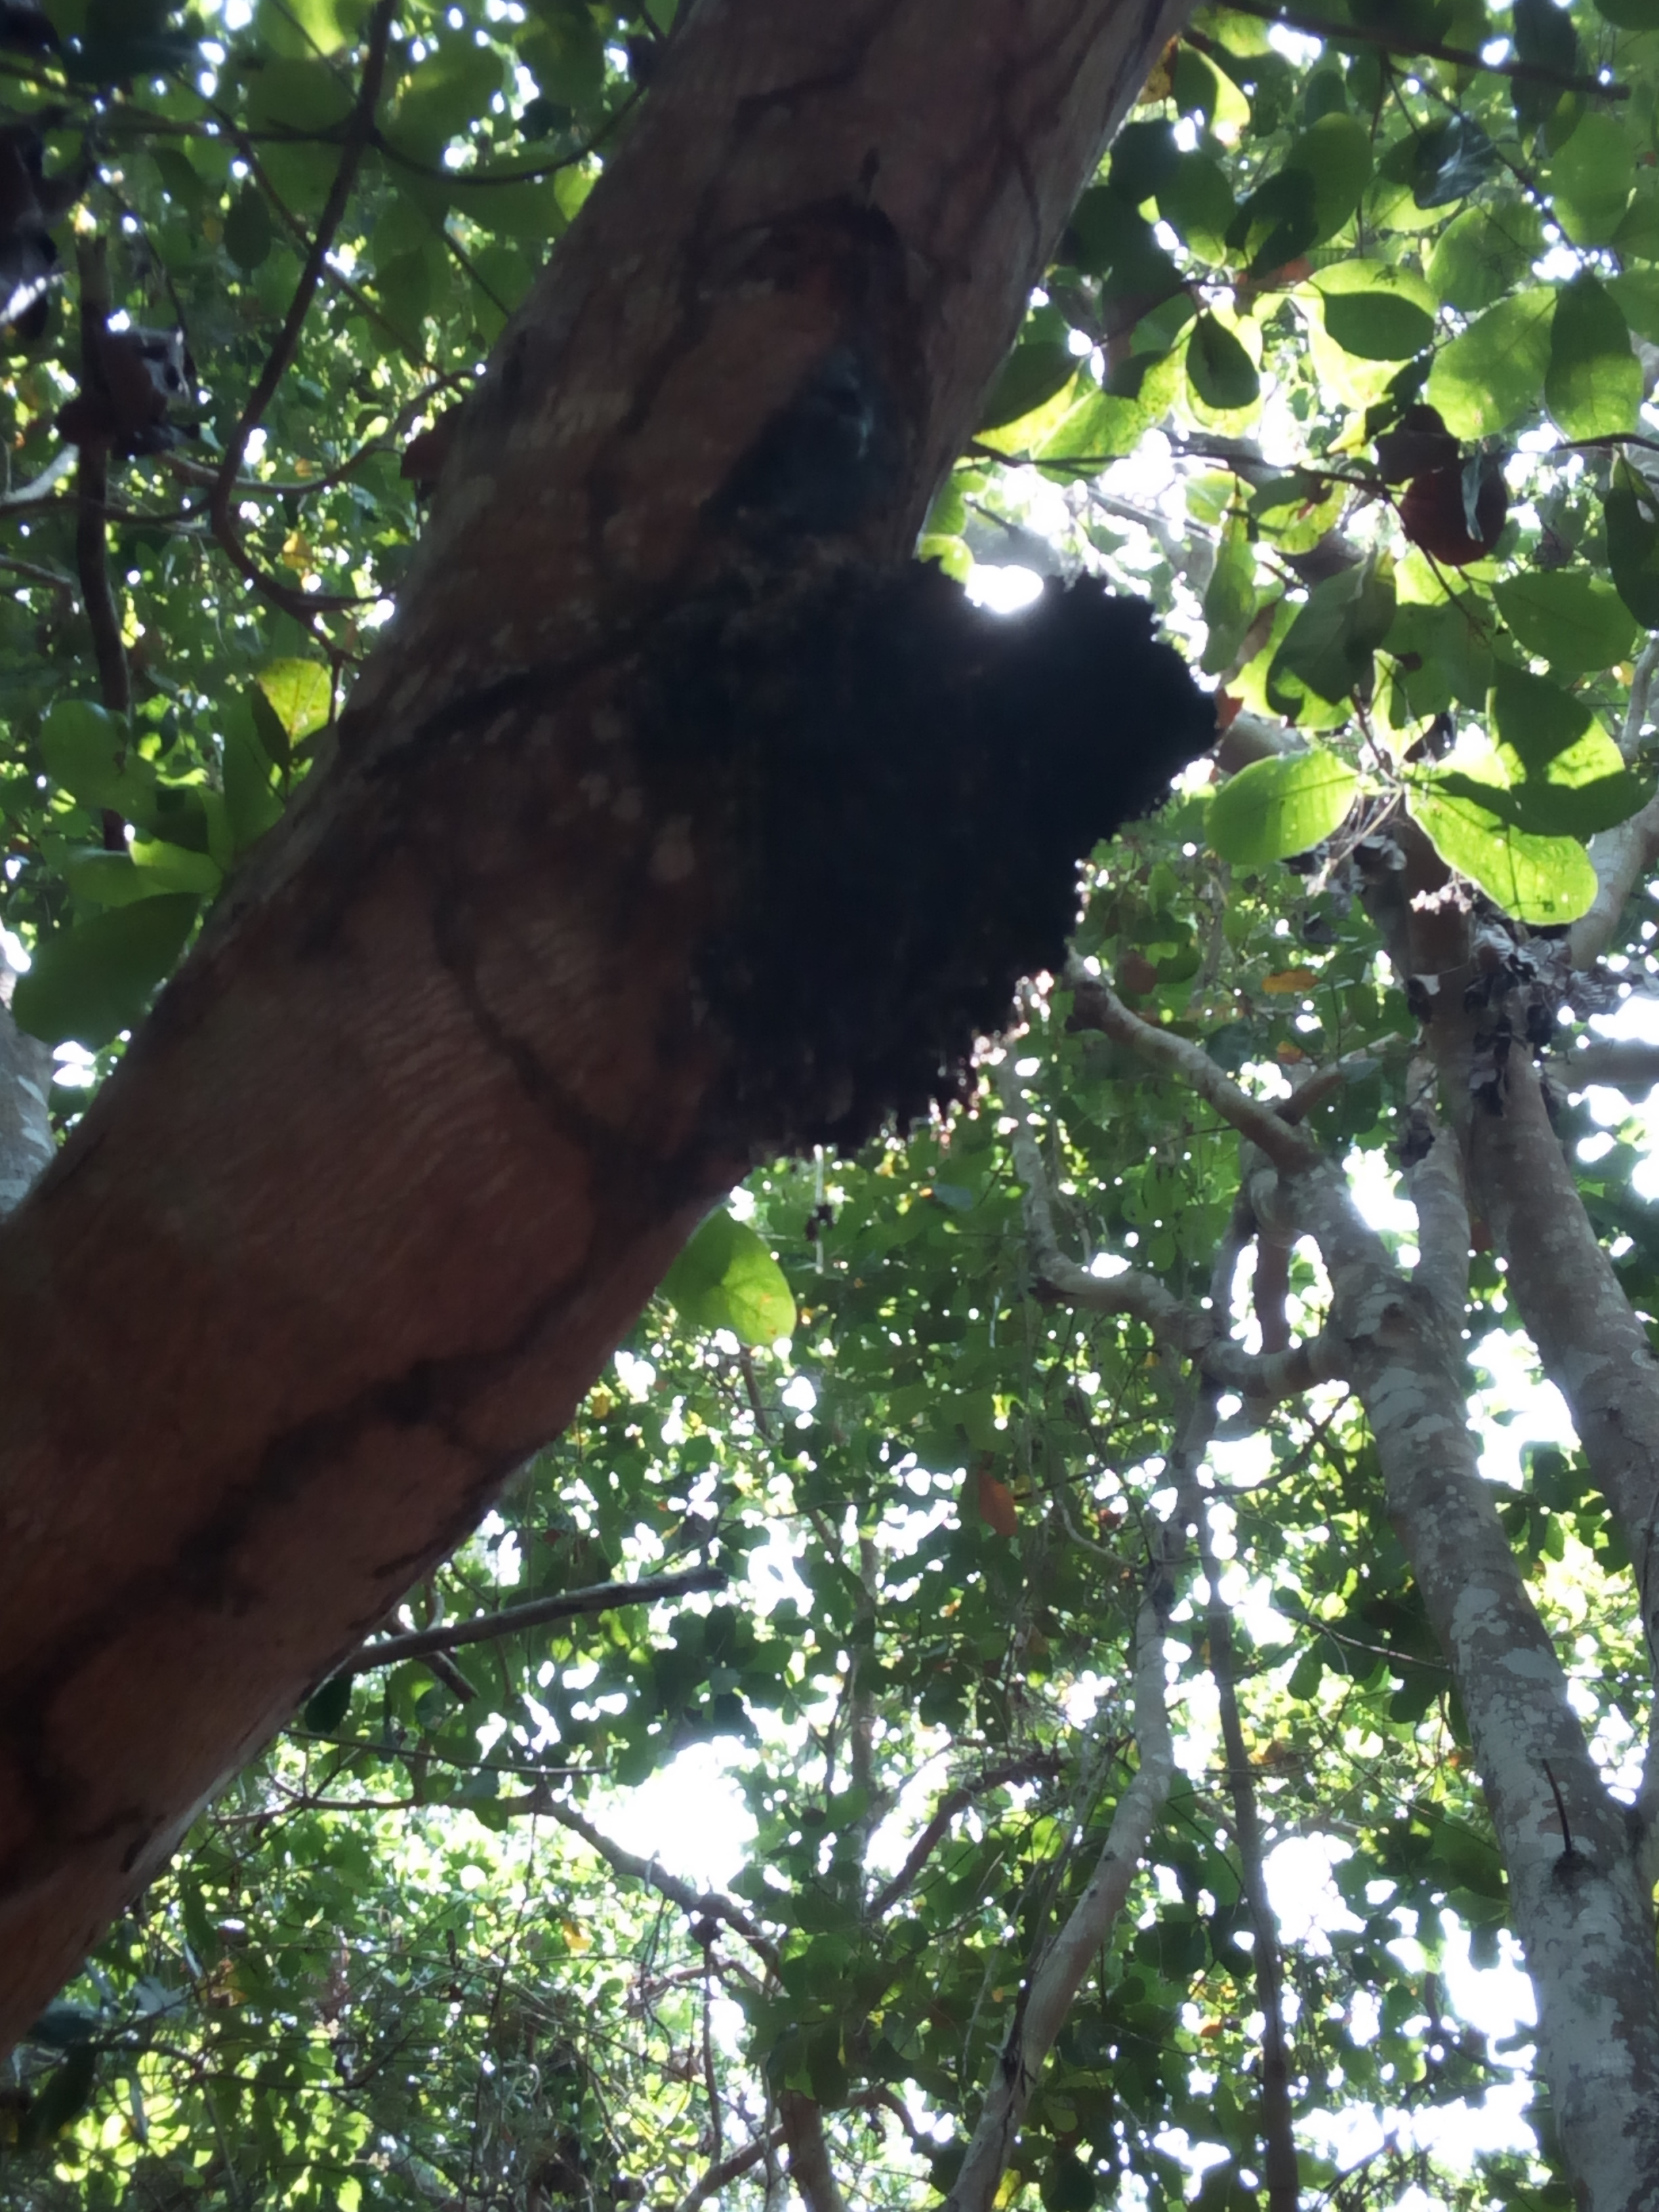Termites: (9, 937, 765, 1827)
